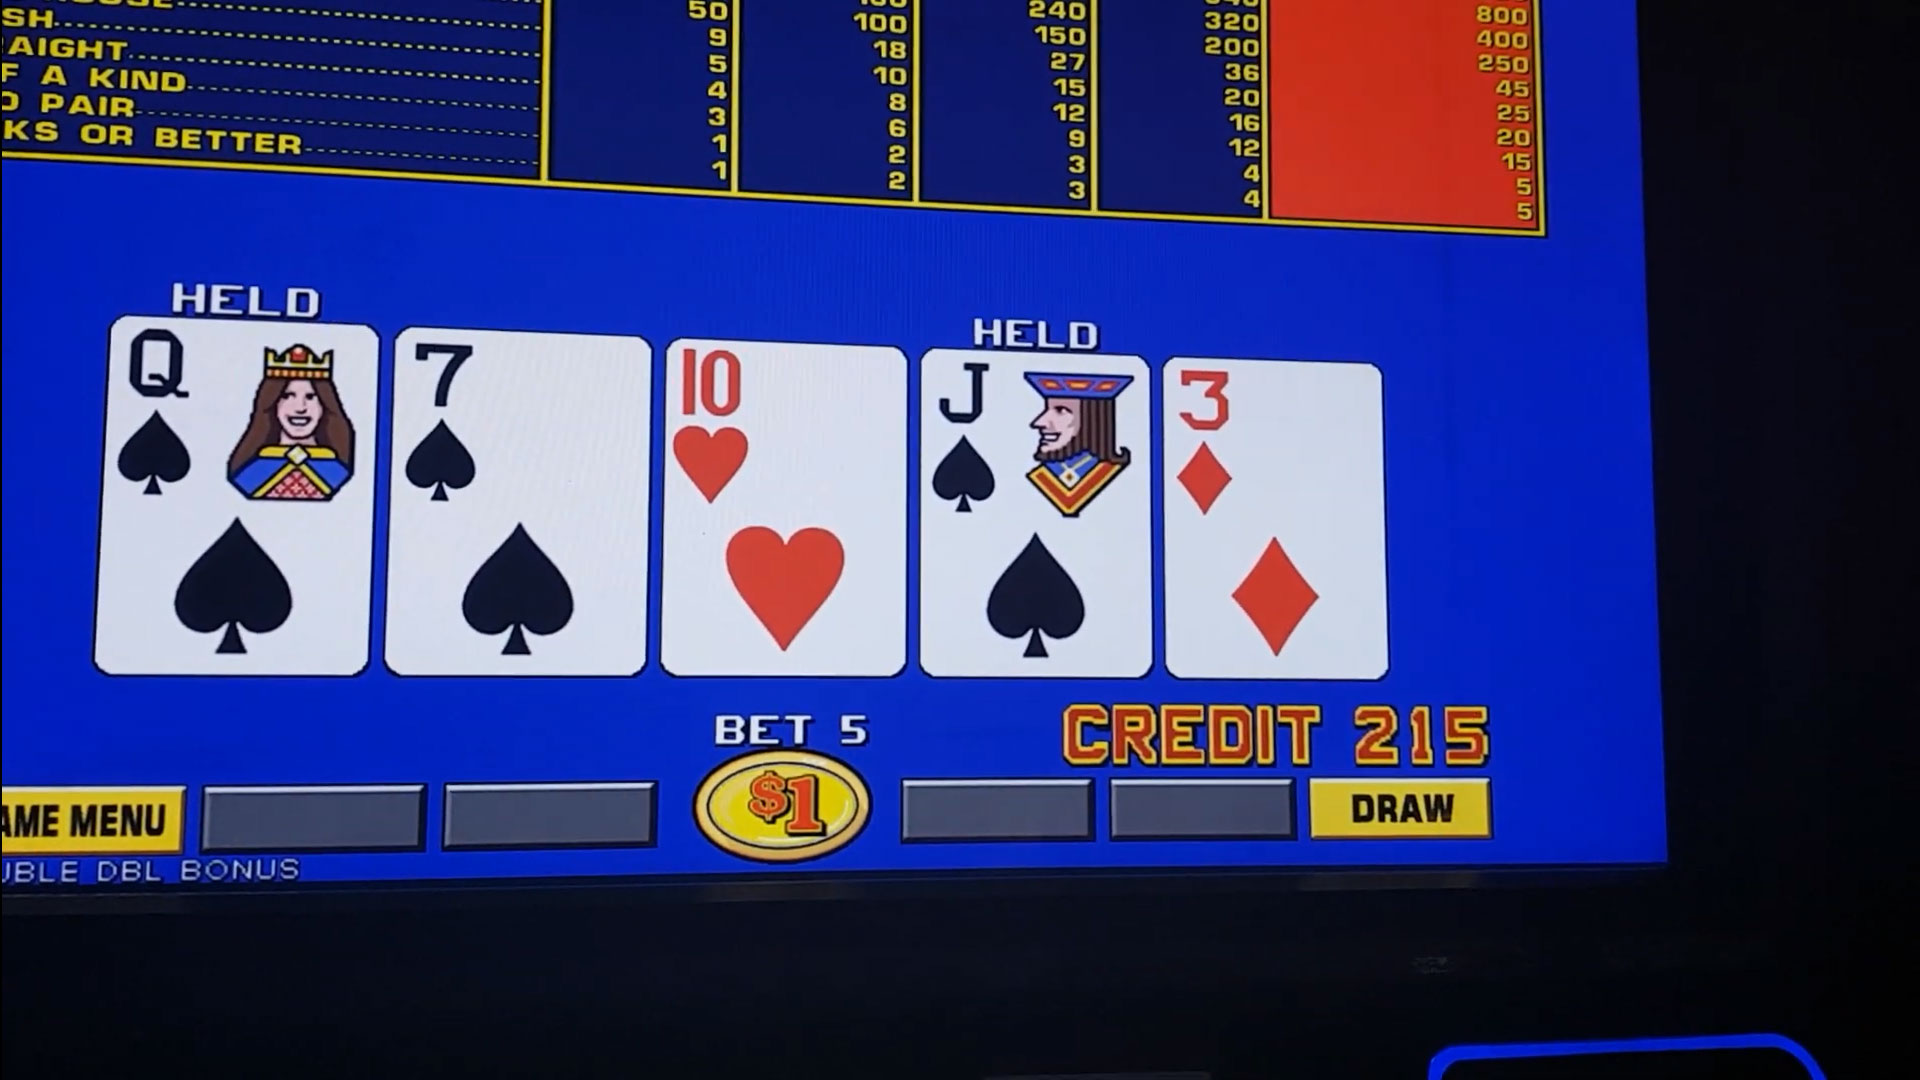D3: (1168, 369, 1377, 514)
HT: (673, 349, 898, 520)
S7: (406, 342, 644, 506)
SJ: (924, 357, 1150, 522)
SQ: (113, 328, 376, 509)
